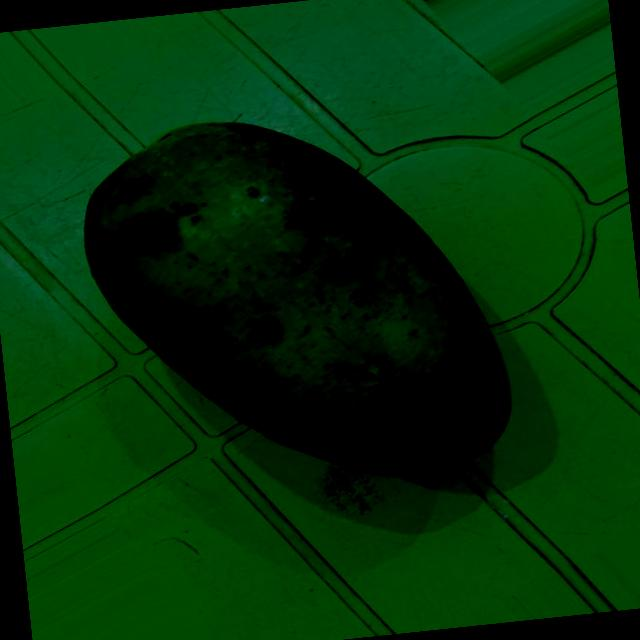Mango: (66, 90, 518, 505)
